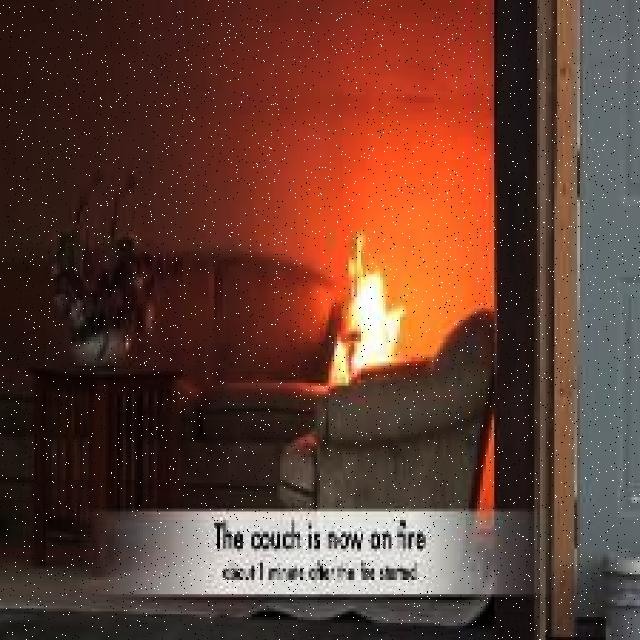fire: (317, 232, 408, 394)
